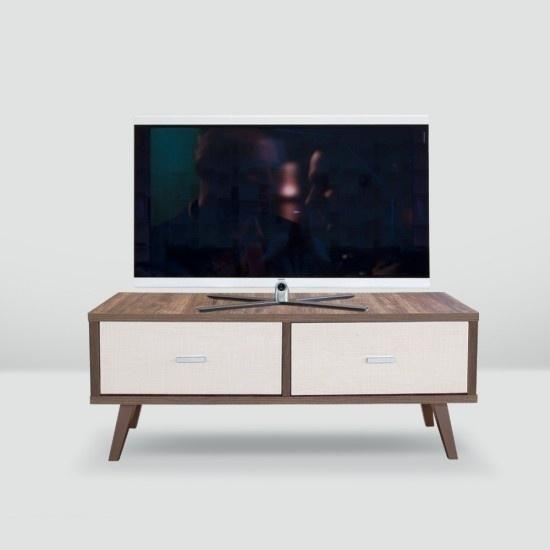cabinet_door: (101, 325, 287, 396), (290, 326, 469, 396)
handle: (362, 353, 400, 369), (173, 352, 210, 368)
